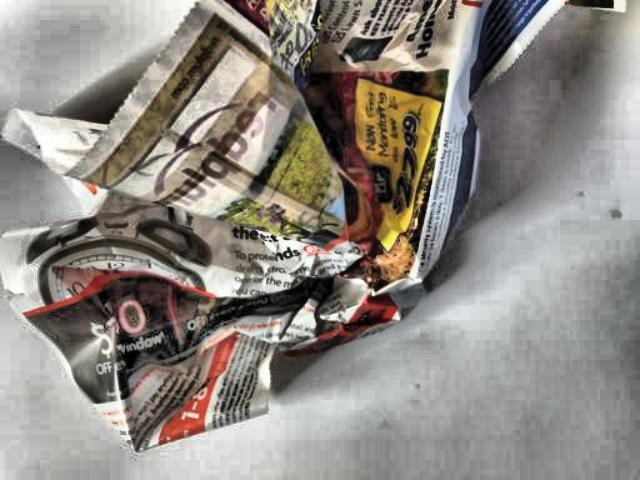Paper: (0, 0, 562, 441)
